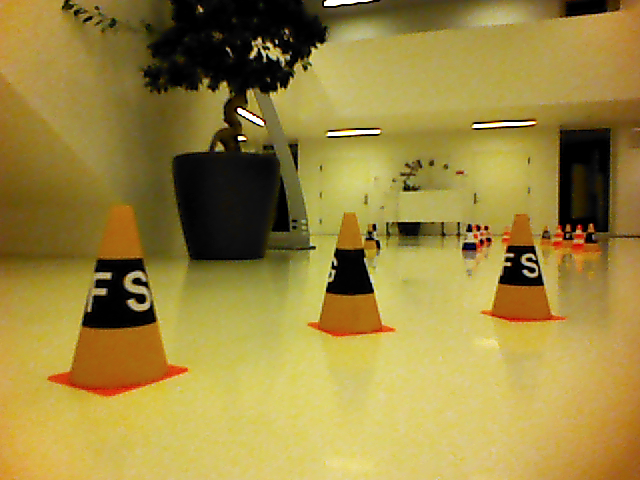yellowcone: (68, 205, 167, 390), (319, 211, 383, 334), (493, 213, 554, 320)
